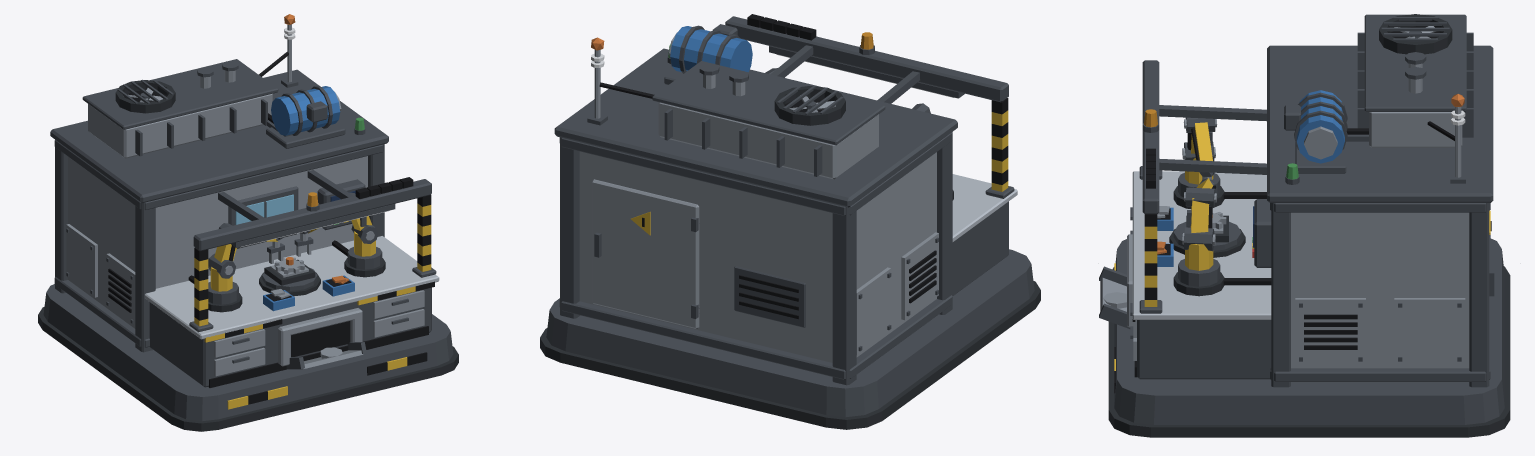
The model's file is assembleur_t2.glb.
3 renders of one model, left to right at view 1: azimuth 30°, elevation 25°; view 2: azimuth 150°, elevation 25°; view 3: azimuth 270°, elevation 25°, orthographic. The views are drawn at different scales.
Visible parts, largest first — view 1: pieces_acier_sombre.015, socle.002, caisson.002, caisson_toit.002, pieces_acier.015, etabli_plateau.002, pieces_noir.015, etabli.002, socle_plinthe.002, transformateur_toit.002, transformateur.002, pieces_jaune.012 (+15 smaller); view 2: pieces_acier_sombre.015, caisson.002, socle.002, caisson_toit.002, armoire_porte.002, socle_plinthe.002, transformateur_toit.002, transformateur.002, pieces_acier.015, pieces_noir.015, etabli.002, moteur.002 (+3 smaller); view 3: pieces_acier_sombre.015, socle.002, caisson_toit.002, caisson.002, pieces_acier.015, etabli_plateau.002, etabli.002, socle_plinthe.002, transformateur_toit.002, pieces_noir.015, transformateur.002, bras2_acier_sombre.002 (+12 smaller).
Boxes of the visible parts, bbox=[...] form: pieces_acier_sombre.015: bbox=[54, 61, 436, 369]; socle.002: bbox=[43, 284, 453, 421]; caisson.002: bbox=[68, 156, 367, 328]; caisson_toit.002: bbox=[50, 69, 388, 203]; pieces_acier.015: bbox=[66, 24, 424, 376]; etabli_plateau.002: bbox=[144, 236, 439, 339]; pieces_noir.015: bbox=[108, 52, 434, 404]; etabli.002: bbox=[149, 287, 431, 387]; socle_plinthe.002: bbox=[38, 306, 458, 431]; transformateur_toit.002: bbox=[82, 59, 278, 129]; transformateur.002: bbox=[88, 93, 272, 158]; pieces_jaune.012: bbox=[194, 203, 431, 409]; pieces_acier_sombre.015: bbox=[559, 16, 1014, 385]; caisson.002: bbox=[579, 151, 936, 362]; socle.002: bbox=[546, 249, 1034, 417]; caisson_toit.002: bbox=[554, 48, 957, 207]; armoire_porte.002: bbox=[592, 179, 699, 328]; socle_plinthe.002: bbox=[540, 281, 1040, 429]; transformateur_toit.002: bbox=[652, 61, 885, 145]; transformateur.002: bbox=[658, 102, 878, 179]; pieces_acier.015: bbox=[594, 50, 938, 354]; pieces_noir.015: bbox=[599, 14, 1008, 319]; etabli.002: bbox=[952, 201, 1008, 295]; moteur.002: bbox=[670, 26, 752, 72]; pieces_acier_sombre.015: bbox=[1099, 17, 1494, 387]; socle.002: bbox=[1114, 238, 1504, 424]; caisson_toit.002: bbox=[1267, 45, 1493, 202]; caisson.002: bbox=[1291, 212, 1469, 382]; pieces_acier.015: bbox=[1100, 63, 1465, 363]; etabli_plateau.002: bbox=[1132, 171, 1271, 319]; etabli.002: bbox=[1137, 320, 1271, 379]; socle_plinthe.002: bbox=[1108, 266, 1510, 437]; transformateur_toit.002: bbox=[1364, 14, 1466, 111]; pieces_noir.015: bbox=[1114, 26, 1491, 393]; transformateur.002: bbox=[1369, 112, 1462, 147]; bras2_acier_sombre.002: bbox=[1178, 178, 1220, 286].
Bounding box in the file's own units: 2 × 1.67 × 2.
